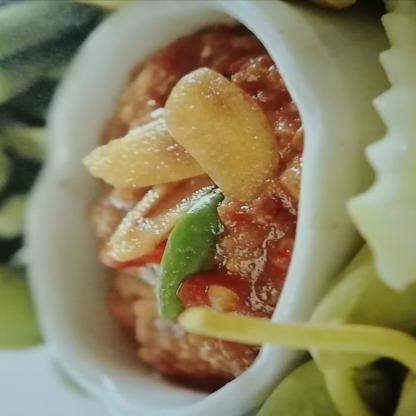Namprig: (56, 13, 312, 404)
